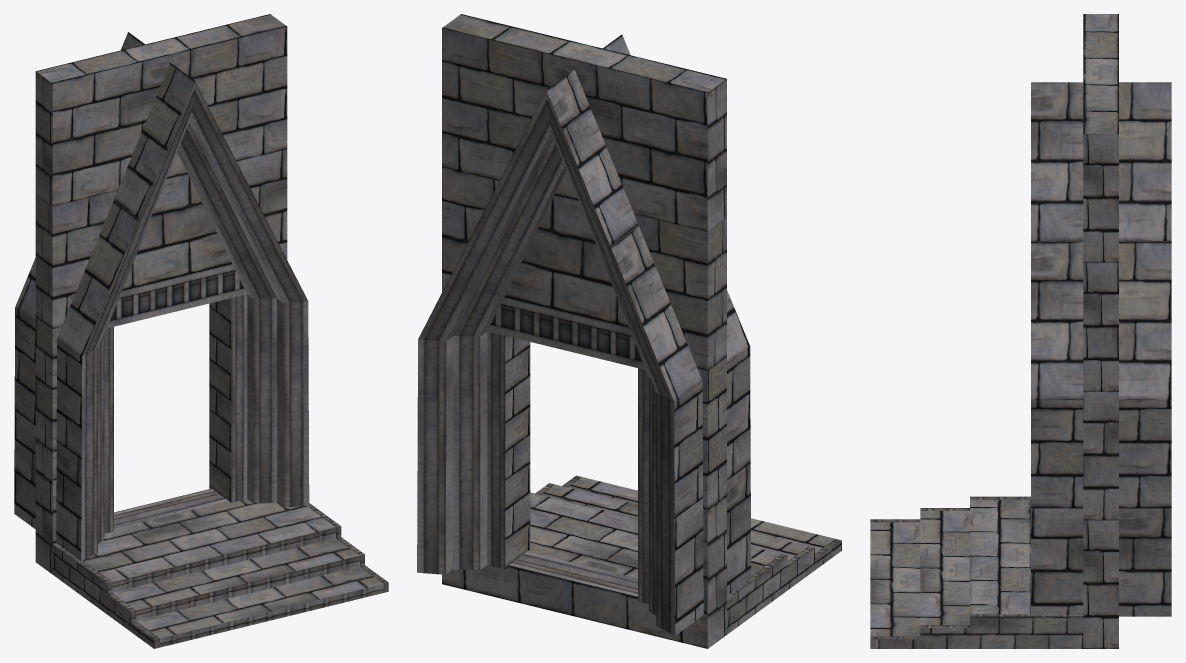
Rendered from doorway_01.fbx.
The picture shows the model from 3 angles, left to right: view 1: azimuth 30°, elevation 25°; view 2: azimuth 150°, elevation 25°; view 3: azimuth 270°, elevation 25°; orthographic projection. The views are drawn at different scales.
Visible parts, largest first — view 1: doorway_01; view 2: doorway_01; view 3: doorway_01.
Part boxes in pixels (x1,y1,x2,y2): doorway_01: [14, 14, 388, 648]; doorway_01: [417, 14, 841, 648]; doorway_01: [870, 14, 1171, 648].
Bounding box in the file's own units: 800 × 1600 × 848.
